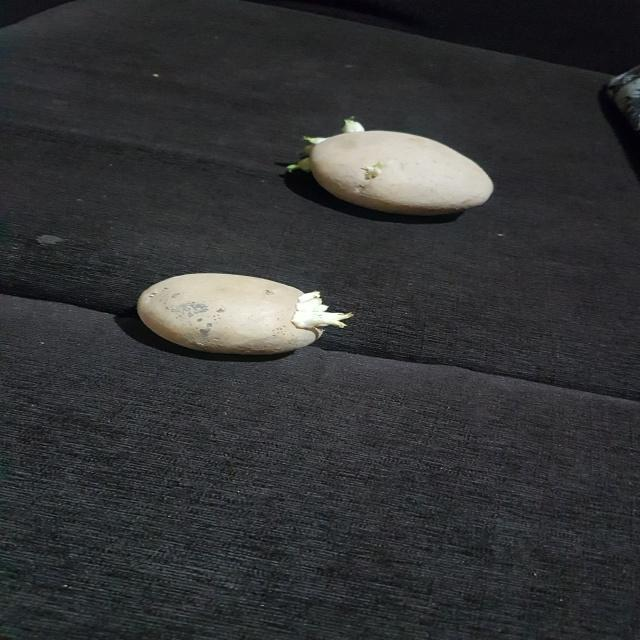potato: (291, 107, 508, 233), (127, 261, 351, 366)
